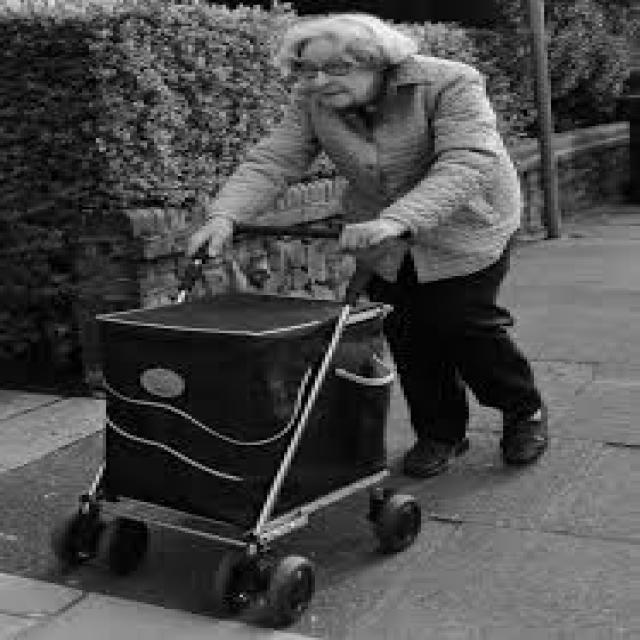idoso em pe: (287, 16, 599, 492)
